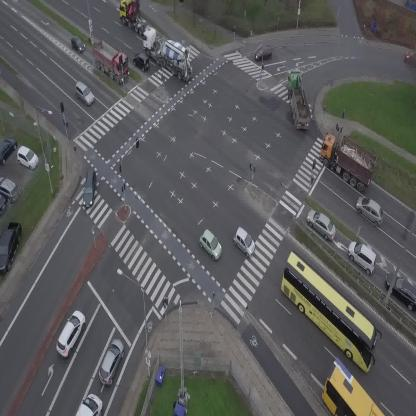bus: (263, 249, 395, 375), (306, 356, 385, 416)
car: (51, 308, 90, 358), (95, 336, 129, 387), (342, 236, 384, 276), (302, 205, 342, 244), (351, 193, 389, 227), (194, 228, 228, 262), (228, 226, 261, 258), (70, 80, 98, 107), (82, 170, 97, 208), (130, 49, 154, 72), (66, 33, 87, 55), (253, 45, 273, 60), (405, 50, 416, 62)
lorry: (309, 126, 385, 194), (131, 24, 203, 84), (84, 36, 138, 86), (283, 70, 313, 132), (76, 394, 102, 416)
